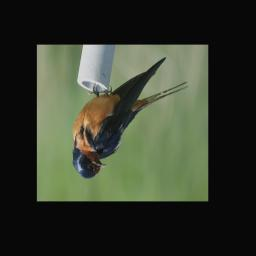Swallow: (71, 59, 188, 181)
